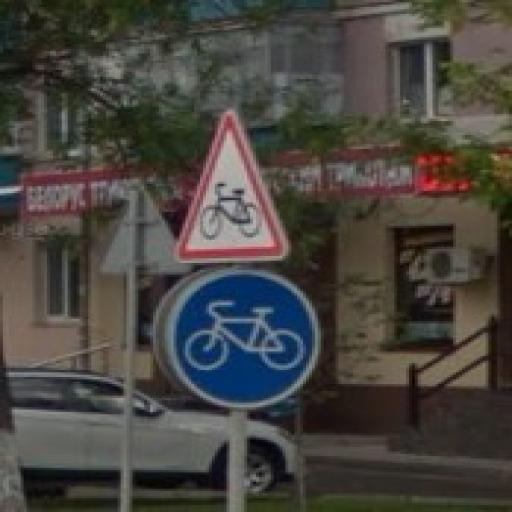traffic_sign: (166, 269, 325, 411), (175, 108, 295, 264)
